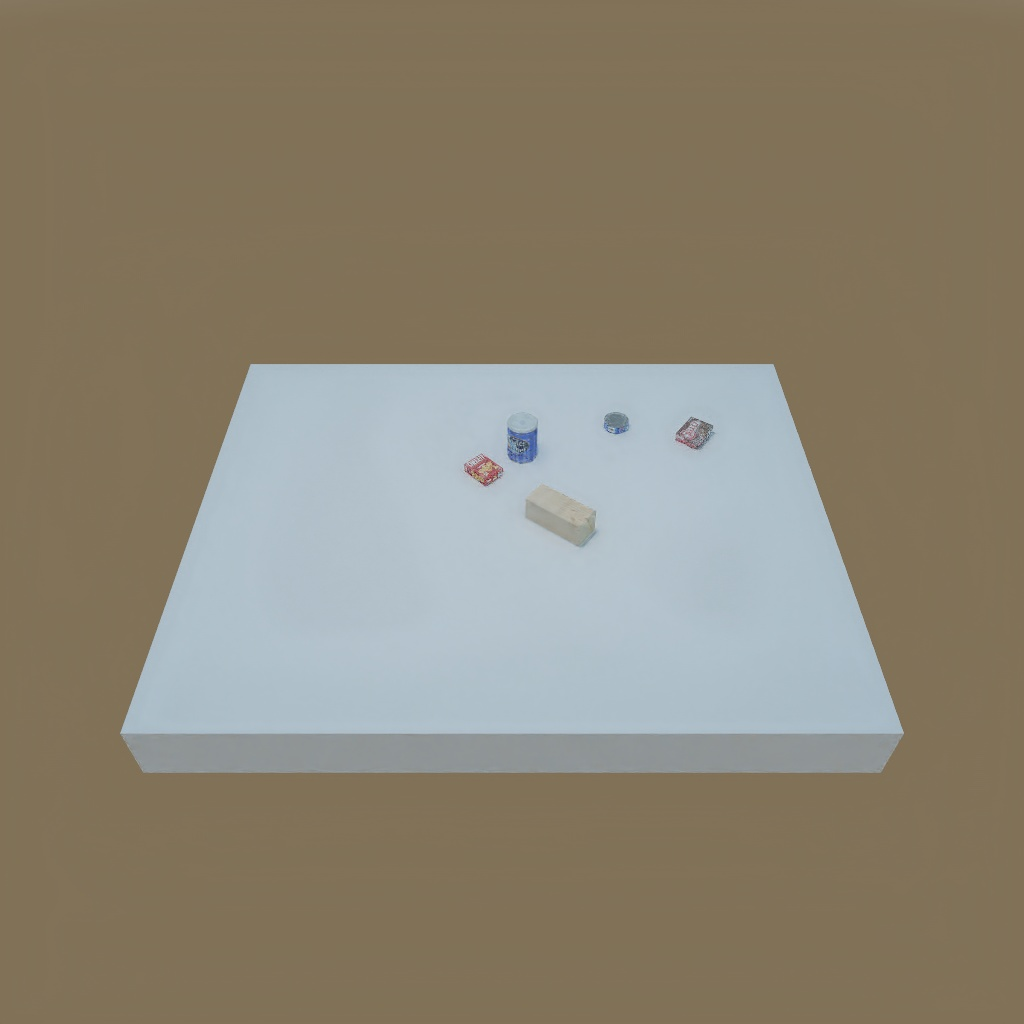master_chef_can: (501, 415, 548, 468)
pudding_box: (674, 413, 716, 451)
wood_block: (522, 483, 603, 552)
